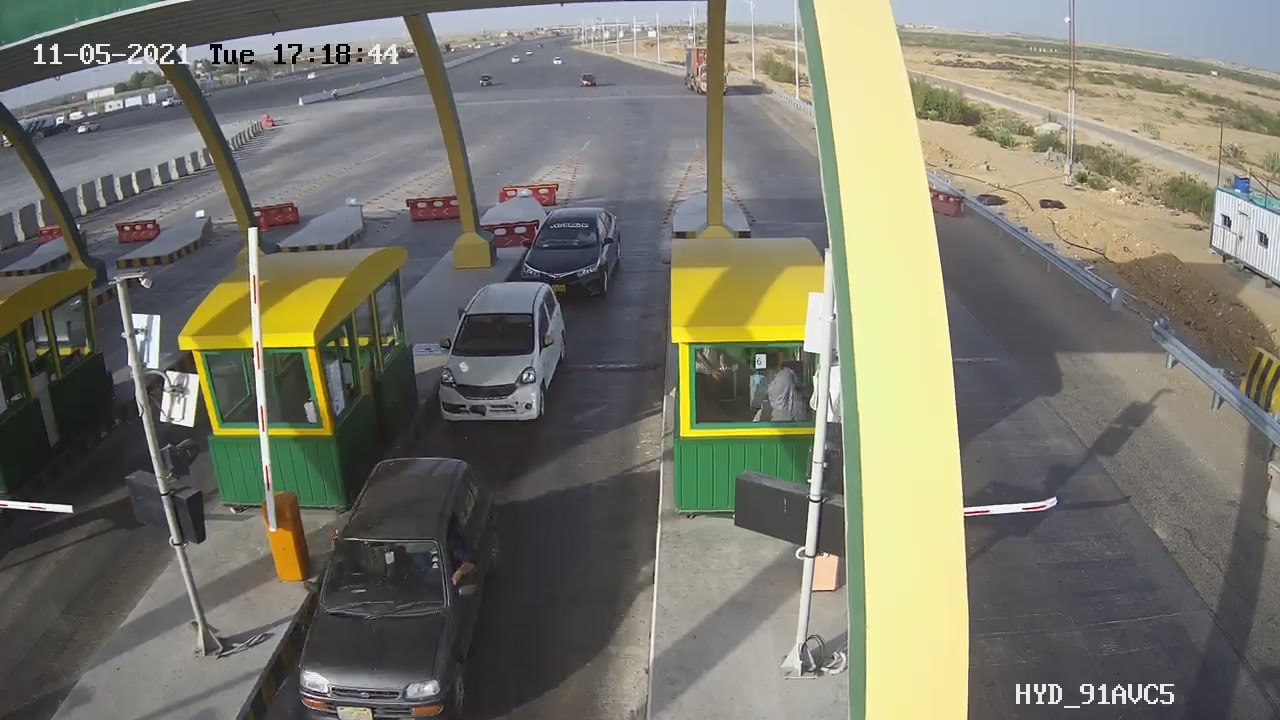F1: (418, 269, 581, 443), (512, 199, 637, 307)
